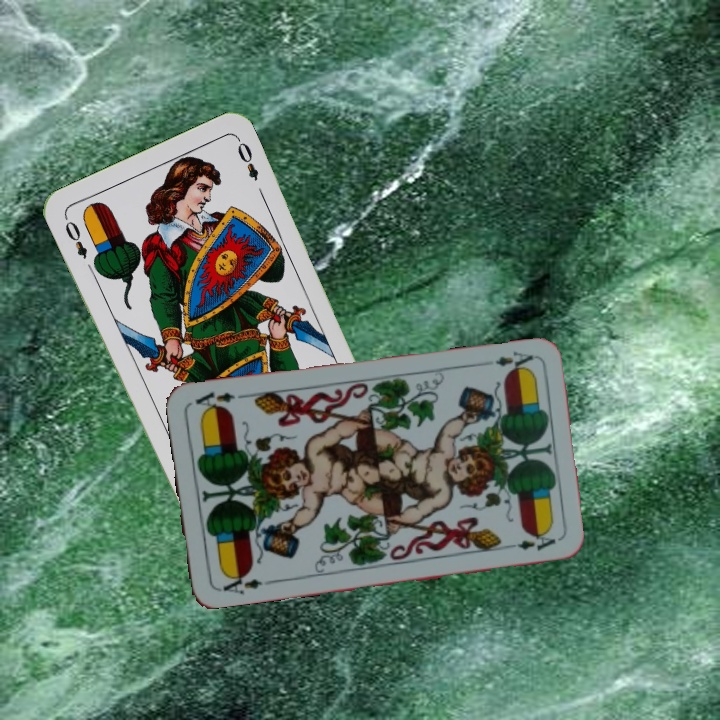EA: (214, 568, 273, 597), (491, 347, 536, 375)
EO: (60, 213, 90, 262)
